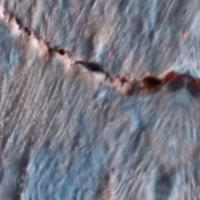crack: (4, 10, 199, 114)
